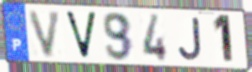1: (212, 13, 236, 68)
4: (141, 13, 169, 64)
9: (101, 11, 136, 63)
J: (177, 16, 204, 63)
V: (63, 10, 99, 62), (27, 10, 64, 60)
